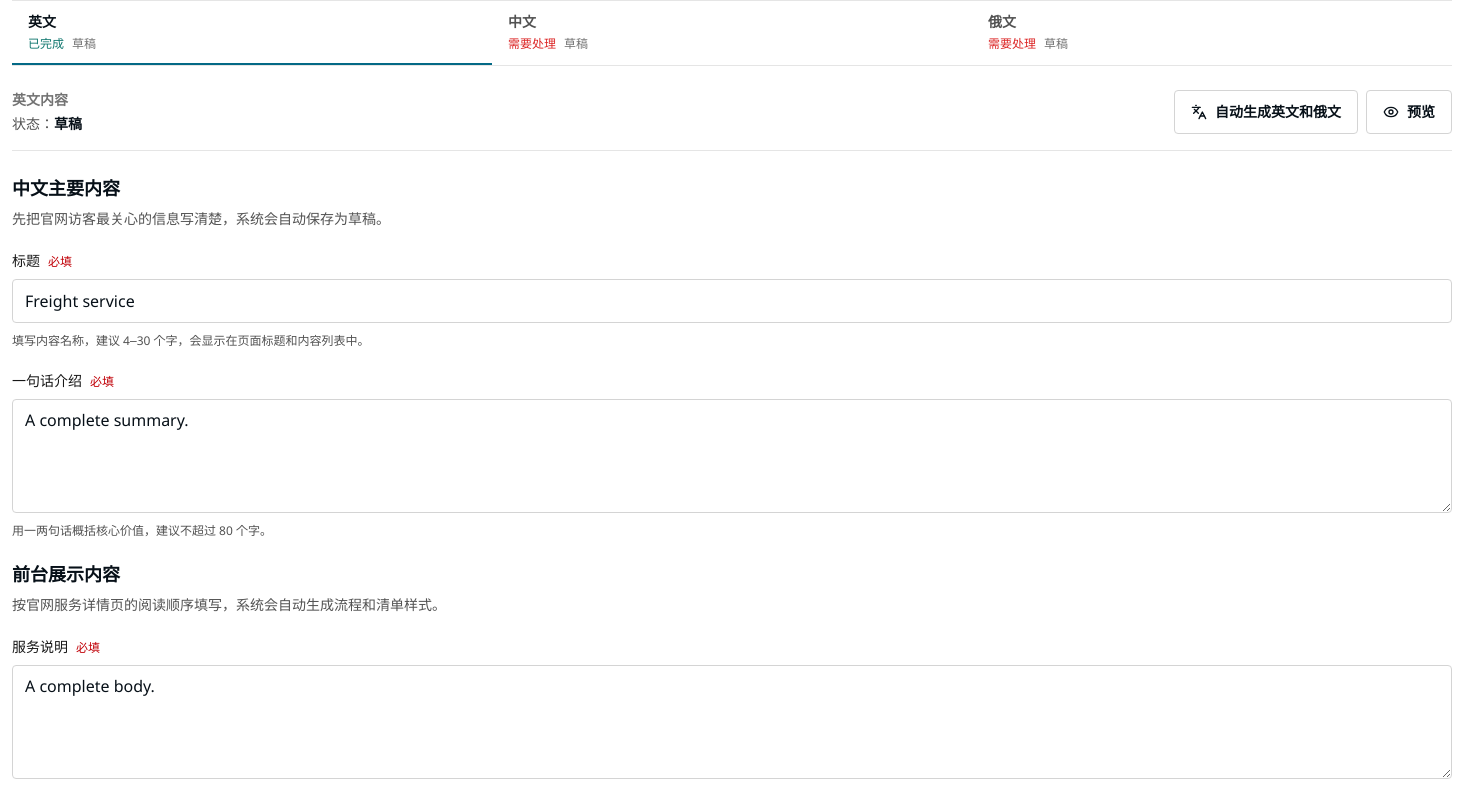
Scenario: ContentEditor › warns on unload and locale changes while dirty, then clears dirty state after save
Replace the text in the field labelled "标题" with "Updated title" at coordinates (732, 301), box [12, 279, 1452, 323]
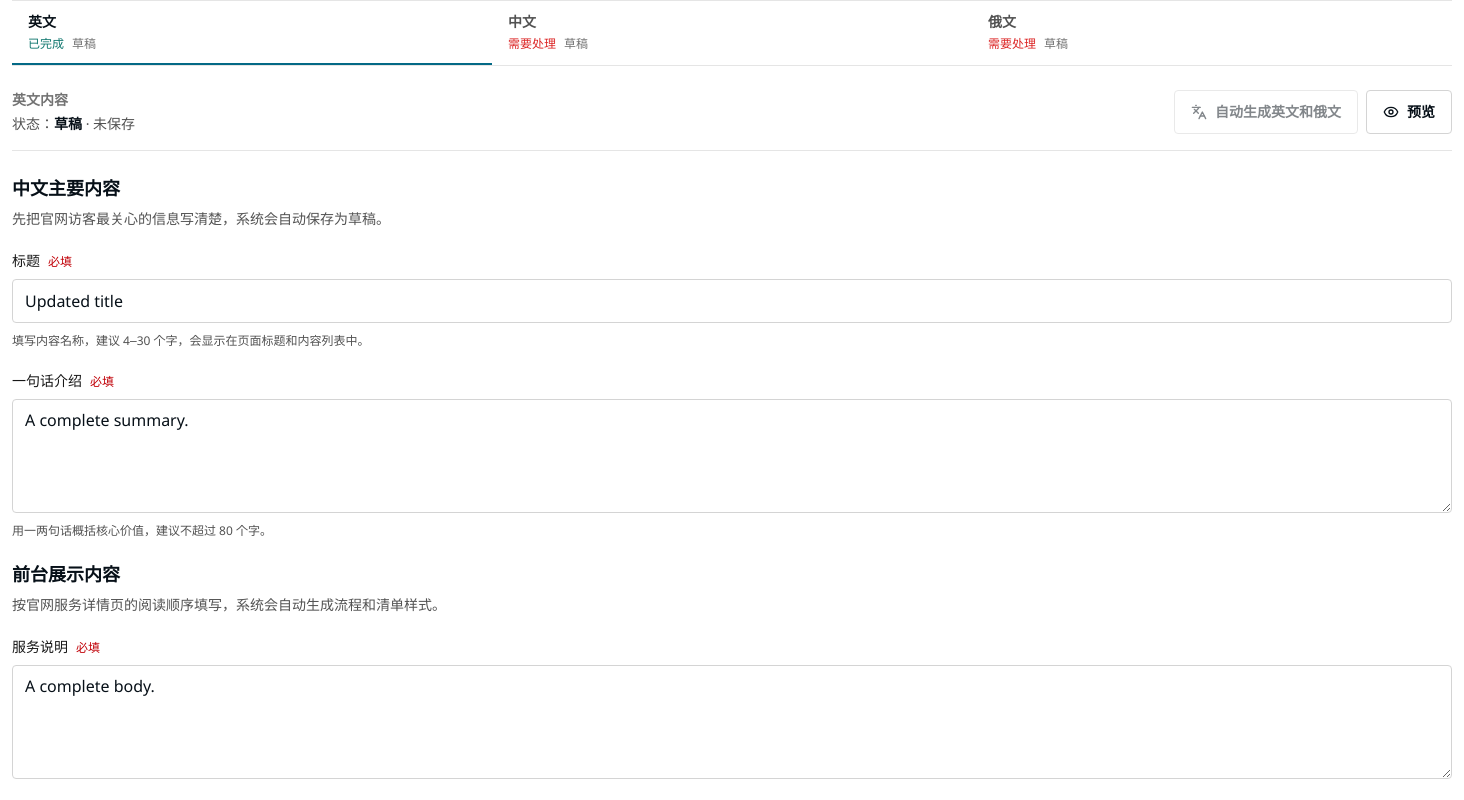
Click the tab "俄文 需要处理 草稿".
click(1012, 44)  # box [972, 1, 1452, 65]
(page scrolled)
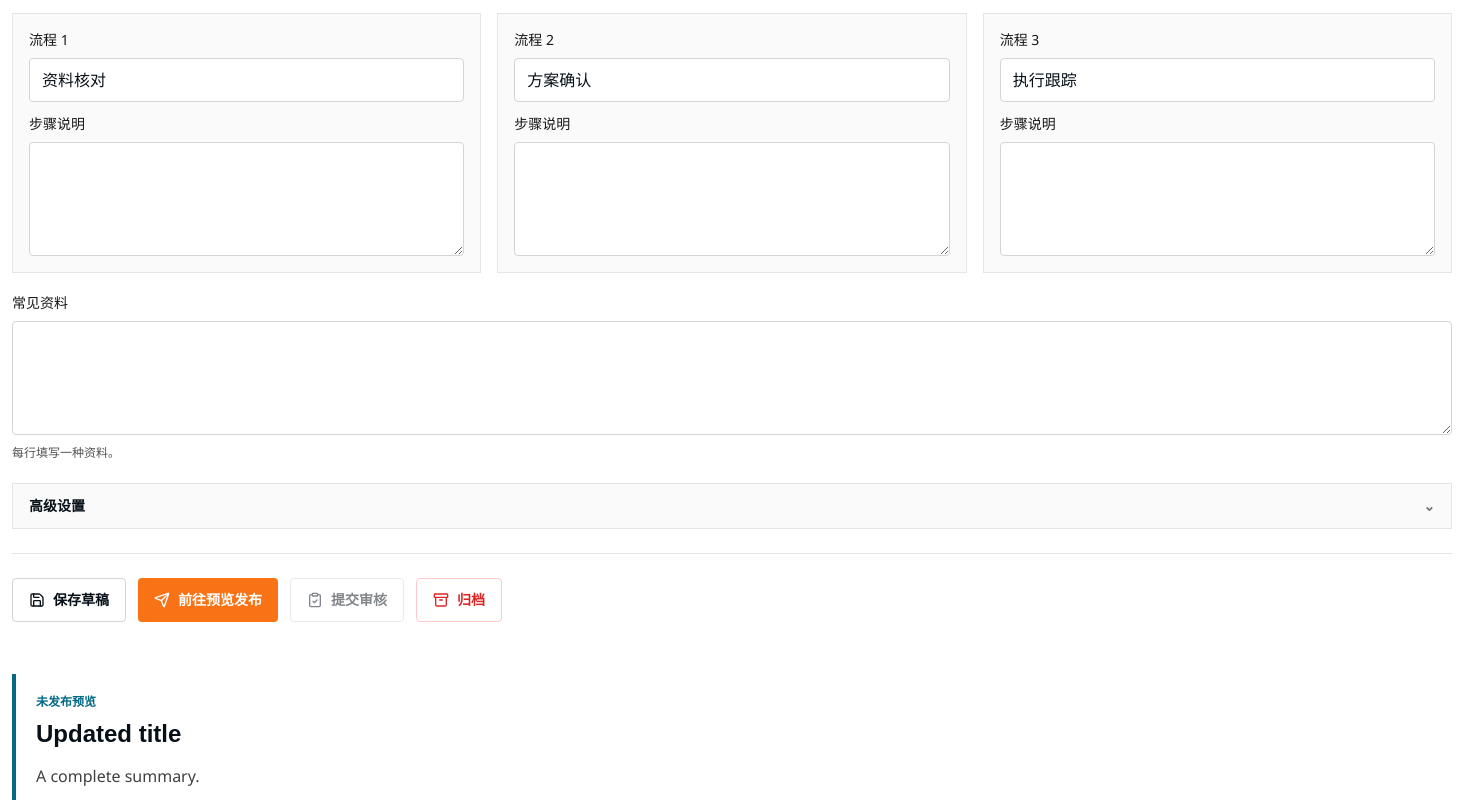
Click the button "保存草稿".
click(69, 600)  # box [12, 578, 126, 622]
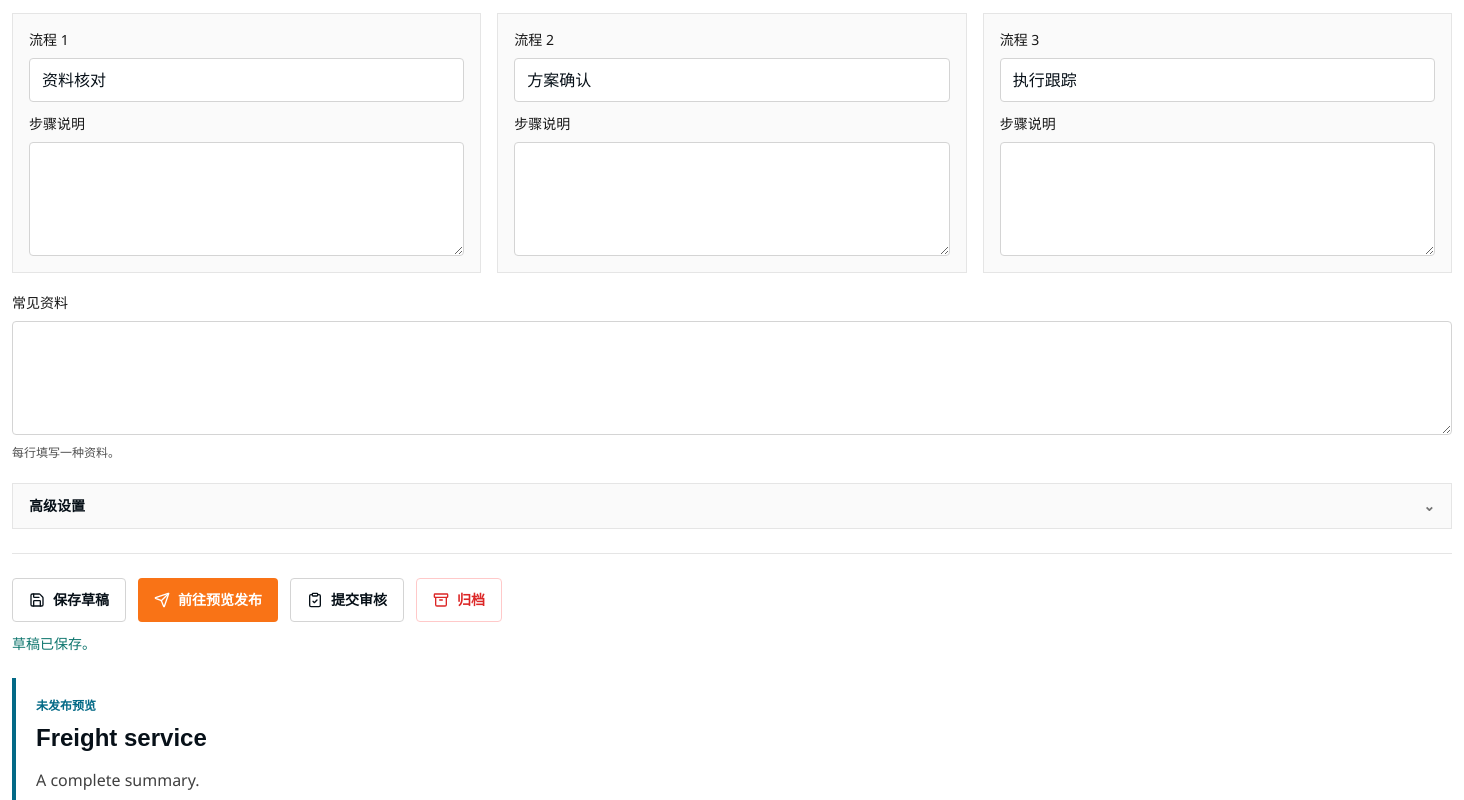
expect the text "草稿已保存。" is shown: met, box [12, 634, 96, 653]
